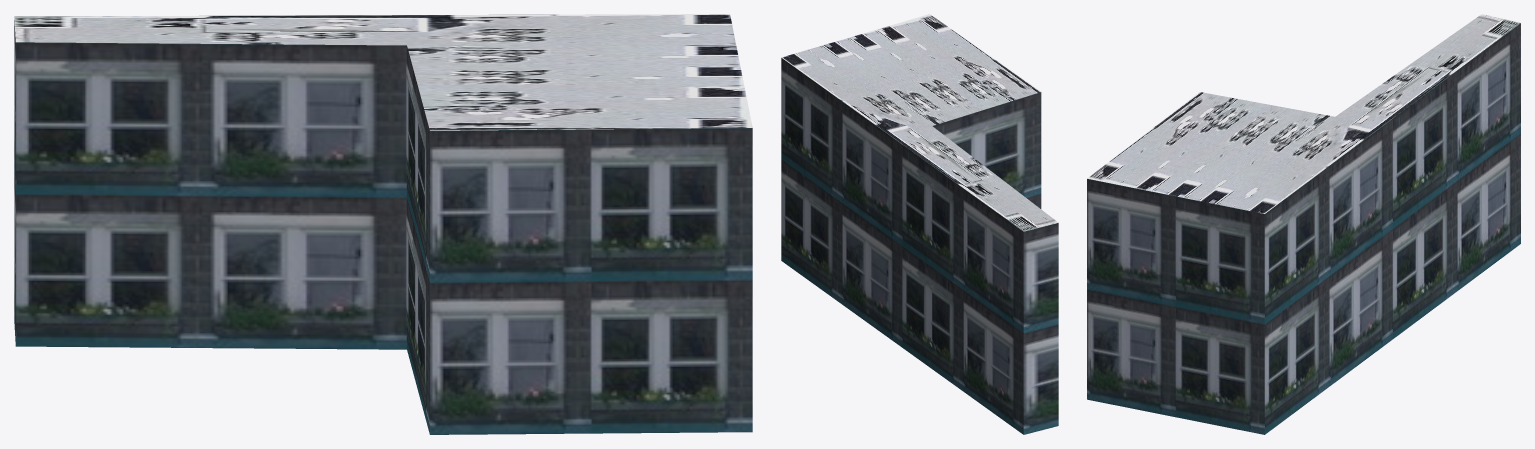
Rendered from ResTex__792.fbx.
3 renders of one model, left to right at view 1: azimuth 30°, elevation 25°; view 2: azimuth 150°, elevation 25°; view 3: azimuth 270°, elevation 25°, orthographic. The views are drawn at different scales.
Parts seen in each view (by area): view 1: CityEngineMaterial_11_m, CityEngineMaterial_2_m; view 2: CityEngineMaterial_11_m, CityEngineMaterial_2_m; view 3: CityEngineMaterial_11_m, CityEngineMaterial_2_m.
Boxes of the visible parts, <box> form: CityEngineMaterial_11_m: <box>14,20,752,434</box>; CityEngineMaterial_2_m: <box>14,14,752,130</box>; CityEngineMaterial_11_m: <box>781,58,1058,434</box>; CityEngineMaterial_2_m: <box>781,14,1058,231</box>; CityEngineMaterial_11_m: <box>1087,23,1520,434</box>; CityEngineMaterial_2_m: <box>1087,14,1520,213</box>.
Size of the model in its own units: 11.66 by 6 by 10.68.
2 materials, 2 textured.
